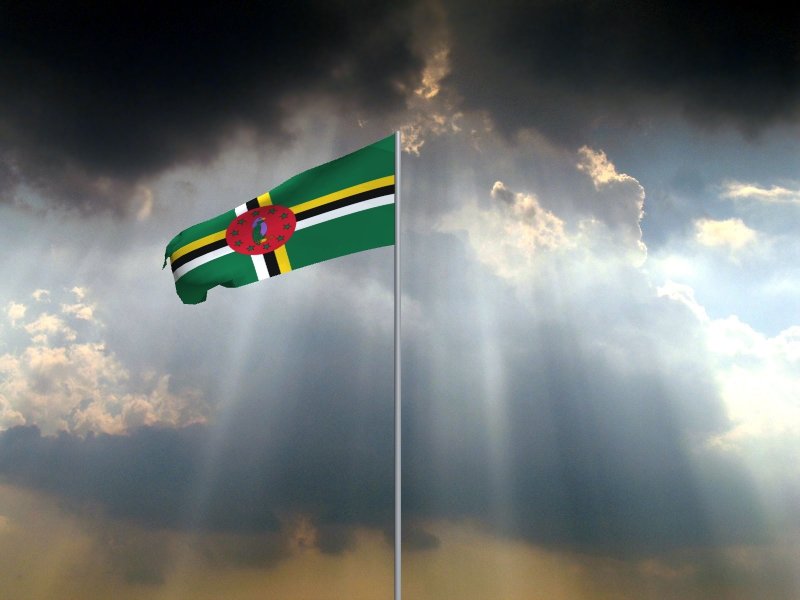dm: (161, 134, 395, 307)
